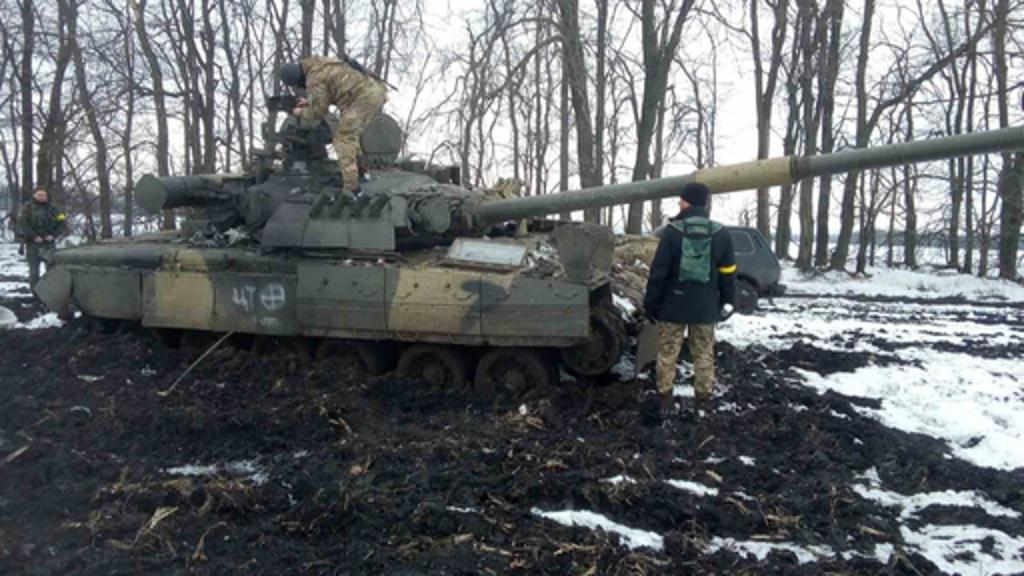CAR: (612, 220, 784, 318)
TANK: (42, 106, 1020, 410)
